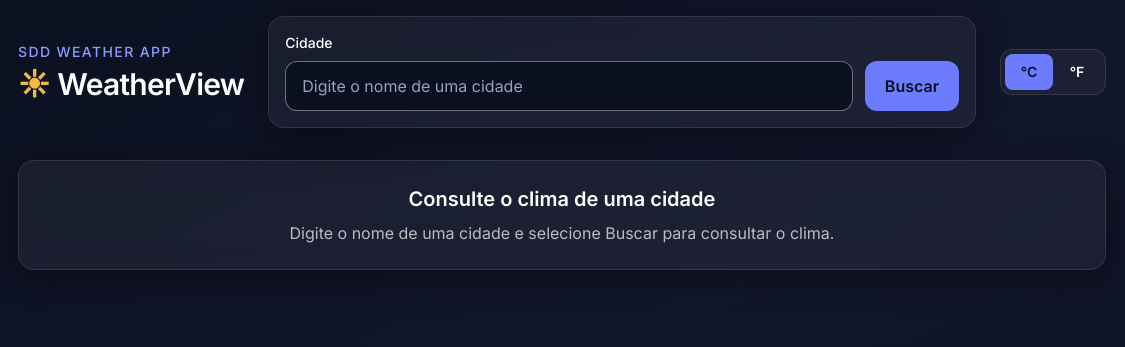
Scenario: App integrado ao serviço (fetch stubado) › trata resposta sem nenhum valor meteorológico válido como falha com retry, sem exibir dados
Type "São Paulo" into the search field at coordinates (569, 86), box [285, 61, 853, 111]
Then press Enter
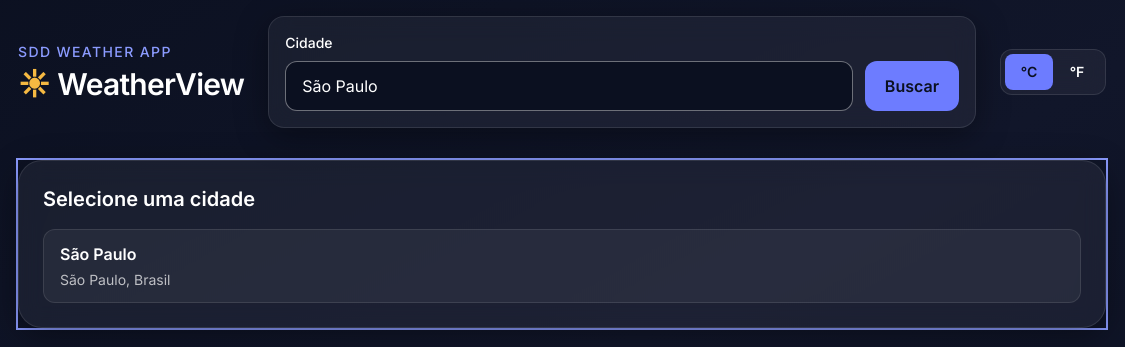
Click the button "São Paulo São Paulo, Brasil" at coordinates (98, 254), box [43, 229, 1081, 303]
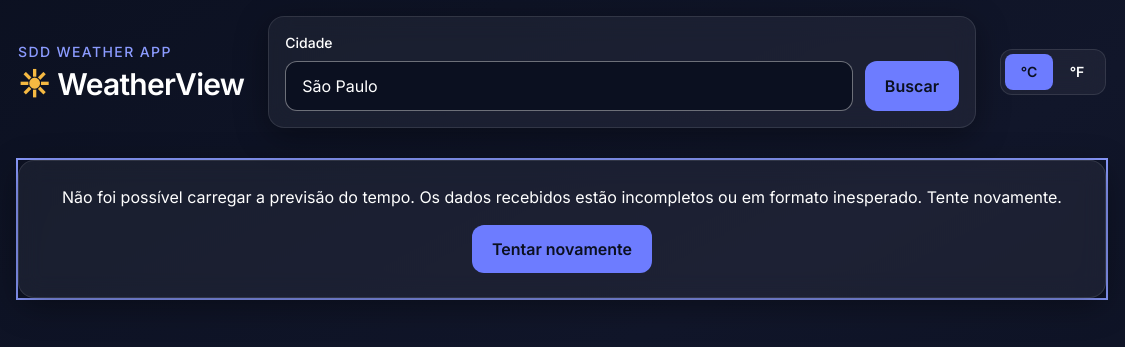
Expected: the message is shown, [43, 185, 1081, 209]
Expected: the button "Tentar novamente" is shown, [472, 225, 652, 273]
Expected: the list is gone
